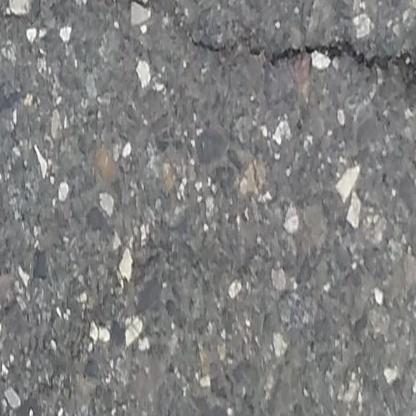Cracks: (211, 32, 416, 94)
